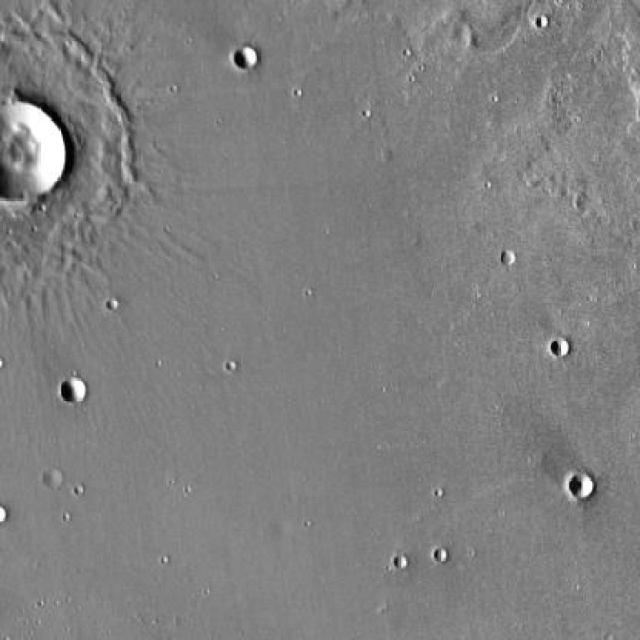crater: (0, 94, 74, 197), (60, 374, 86, 400), (572, 474, 594, 498), (233, 47, 255, 68), (40, 468, 60, 488), (550, 338, 568, 356), (0, 510, 3, 528)
